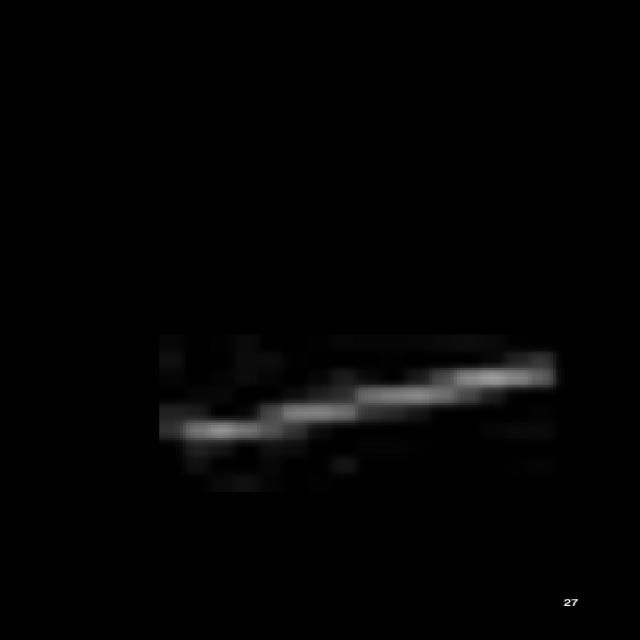1 -one-: (164, 356, 561, 456)
